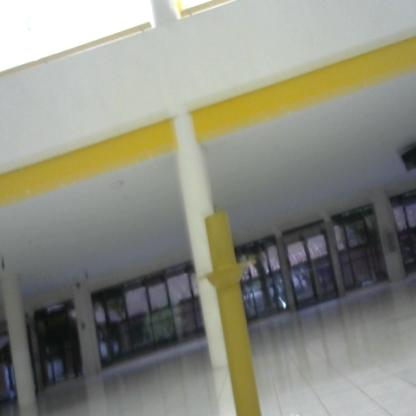pole: (189, 204, 272, 416)
